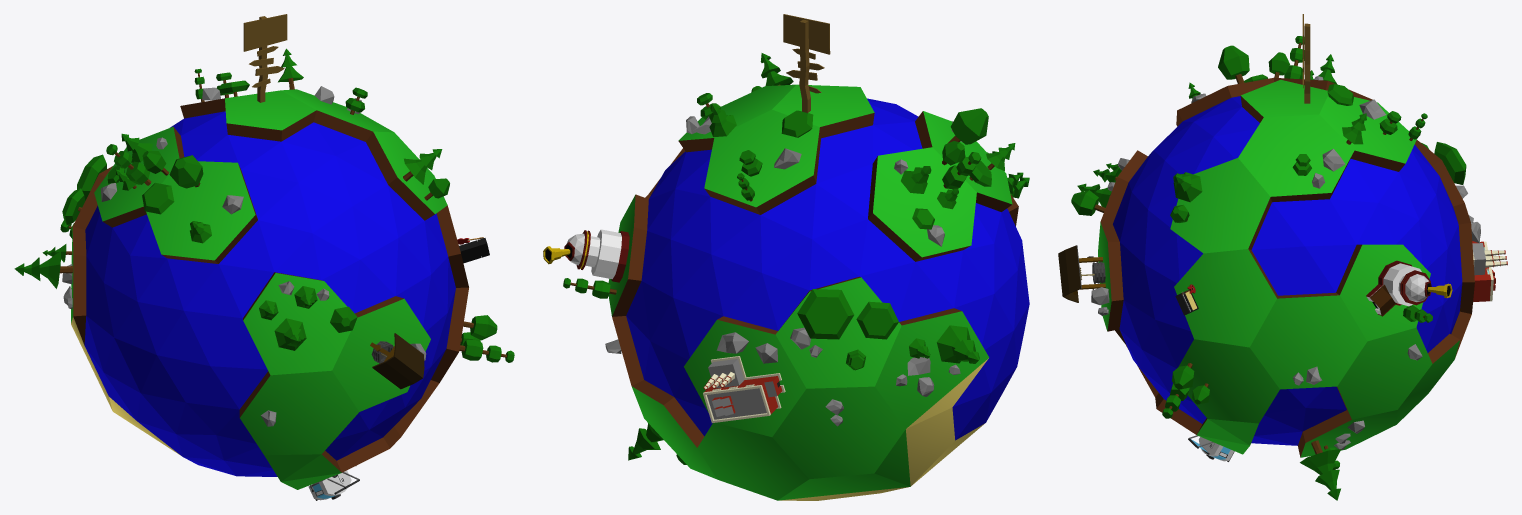
File: planet.glb
The picture shows the model from 3 angles, left to right: view 1: azimuth 30°, elevation 25°; view 2: azimuth 150°, elevation 25°; view 3: azimuth 270°, elevation 25°; orthographic projection. The views are drawn at different scales.
Visible parts, largest first — view 1: planet, welcome_sign, well, og_tree2.010, camper, og_tree3.005, og_tree.004, og_tree.005, og_tree4.005, og_tree2.005, og_tree2.002, og_tree4.001 (+3 smaller); view 2: planet, factory, observatory, welcome_sign, og_tree4.001, og_tree2.010, og_tree4.003, og_tree3.005, og_tree.004, og_tree4.002, og_tree2.006, og_tree2.003 (+3 smaller); view 3: planet, observatory, well, factory, og_tree2.006, og_tree3.005, og_tree4.001, welcome_sign, og_tree2.002, og_tree3.004, camper, og_tree.004.
Part boxes in pixels (x1,y1,x2,y2): planet: (71, 89, 468, 489); welcome_sign: (243, 14, 287, 102); well: (370, 333, 424, 389); og_tree2.010: (14, 251, 72, 288); camper: (308, 465, 359, 500); og_tree3.005: (169, 155, 203, 188); og_tree.004: (106, 144, 151, 185); og_tree.005: (459, 339, 514, 362); og_tree4.005: (142, 182, 174, 214); og_tree2.005: (274, 318, 306, 350); og_tree2.002: (403, 149, 442, 184); og_tree4.001: (77, 154, 106, 200); planet: (608, 84, 1029, 500); factory: (703, 356, 785, 422); observatory: (543, 229, 629, 282); welcome_sign: (783, 14, 830, 112); og_tree4.001: (797, 289, 854, 339); og_tree2.010: (936, 325, 979, 363); og_tree4.003: (856, 301, 898, 339); og_tree3.005: (947, 108, 988, 144); og_tree.004: (942, 152, 981, 189); og_tree4.002: (781, 110, 813, 137); og_tree2.006: (628, 423, 663, 460); og_tree2.003: (709, 104, 736, 136); planet: (1098, 77, 1474, 457); observatory: (1366, 260, 1452, 316); well: (1058, 245, 1105, 302); factory: (1472, 241, 1507, 302); og_tree2.006: (1300, 440, 1341, 500); og_tree3.005: (1218, 45, 1249, 83); og_tree4.001: (1434, 142, 1466, 184); welcome_sign: (1302, 14, 1310, 103); og_tree2.002: (1173, 172, 1202, 202); og_tree3.004: (1071, 190, 1105, 215); camper: (1188, 435, 1234, 461); og_tree.004: (1284, 36, 1304, 79).
Bounding box in the file's own units: 58.08 × 65.64 × 62.65.
